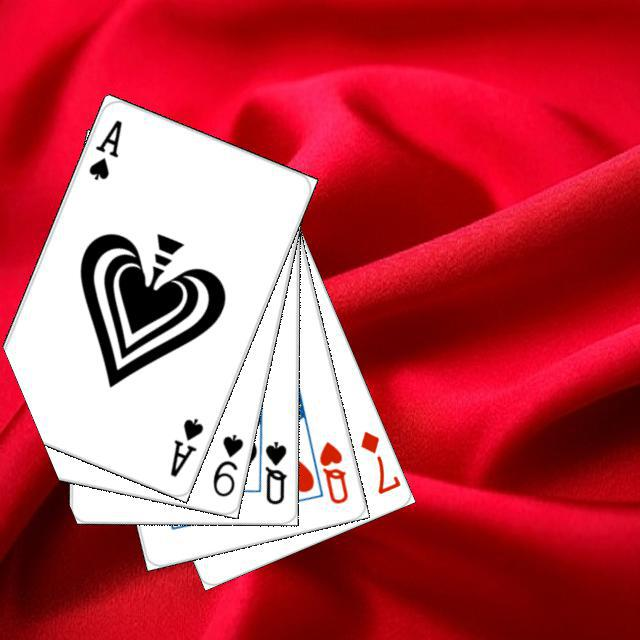7d: (355, 426, 401, 496)
9s: (207, 429, 245, 499)
As: (83, 114, 124, 182), (165, 413, 205, 479)
Qh: (314, 436, 350, 506)
Qs: (260, 437, 289, 506)
